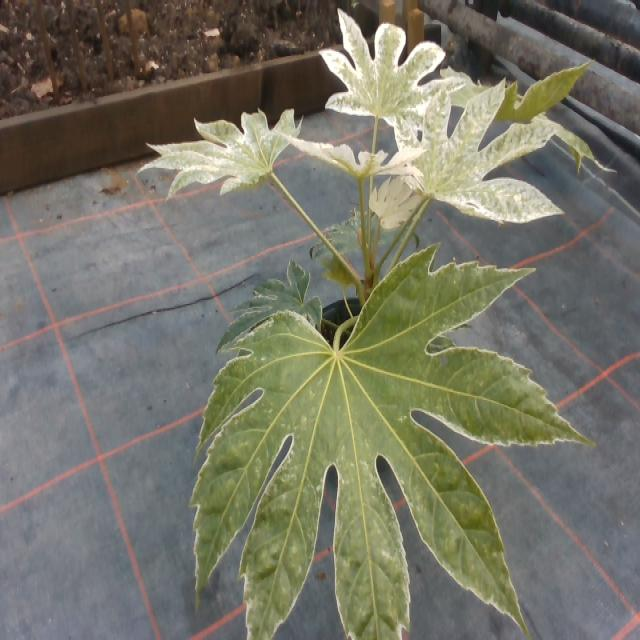Fatsia-japonica: (161, 264, 576, 640), (386, 81, 554, 242), (442, 44, 608, 175), (314, 0, 466, 142), (152, 85, 298, 215), (211, 246, 335, 362), (282, 112, 420, 204), (314, 204, 379, 268), (369, 176, 434, 237)
